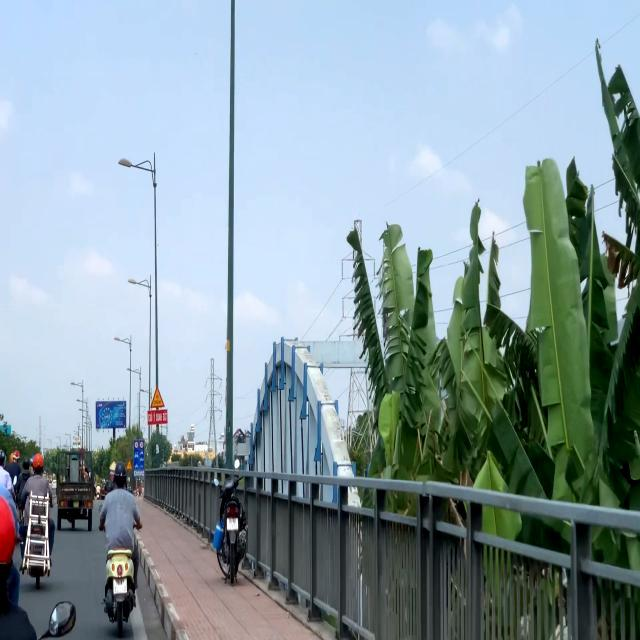Di cham: (150, 387, 165, 409)
